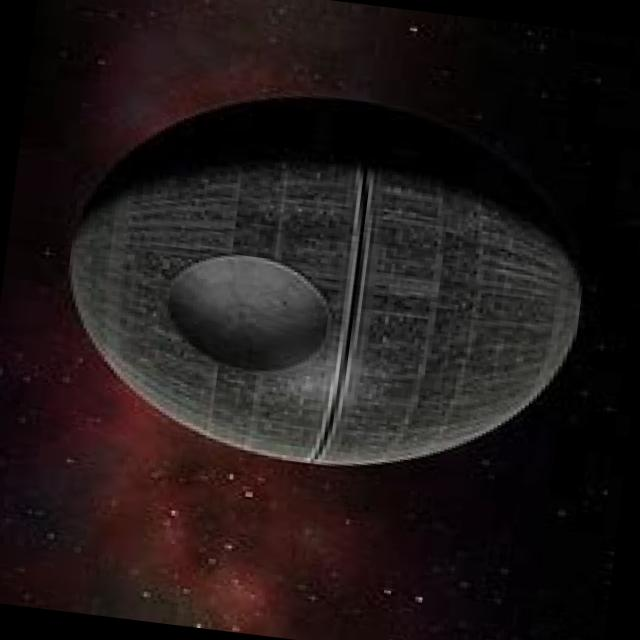Death Star: (43, 37, 618, 493)
